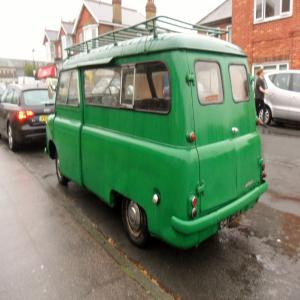Vehicle-registration-plate: (39, 116, 51, 123)
